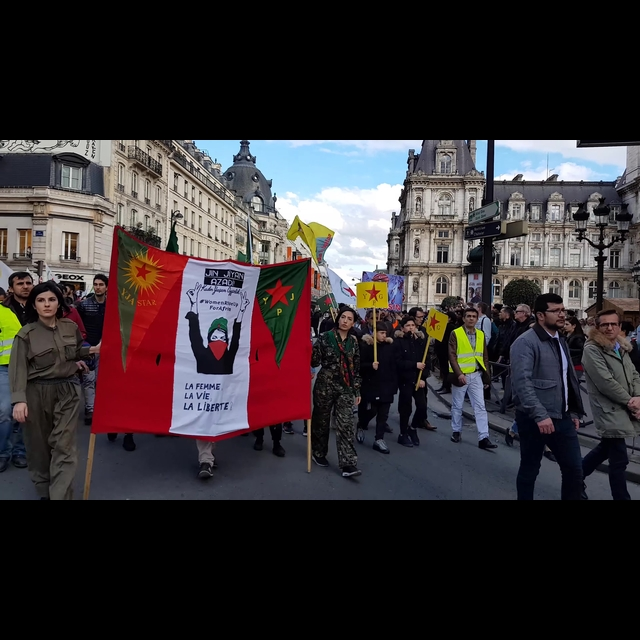YPJ: (260, 268, 303, 375)
